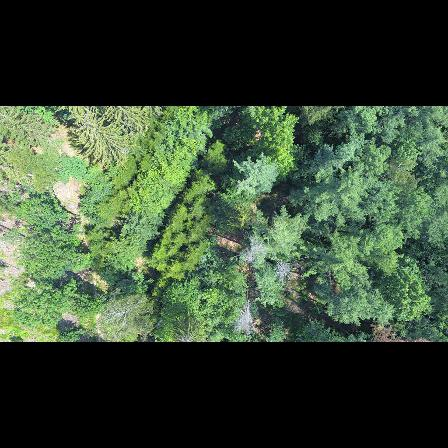Dead: (268, 257, 309, 283), (236, 294, 259, 336)
Sick: (174, 329, 201, 342)
